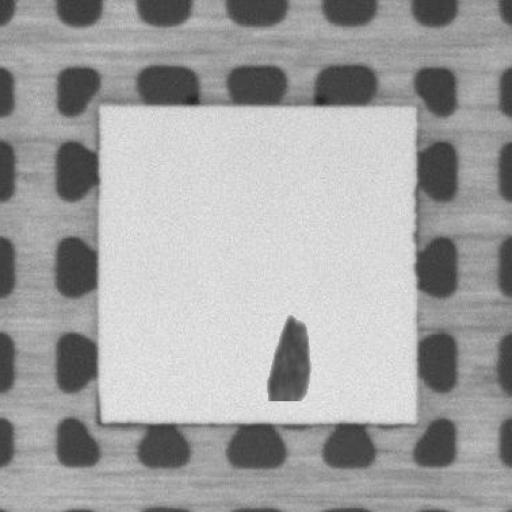DIE_INK: (265, 310, 309, 401)
